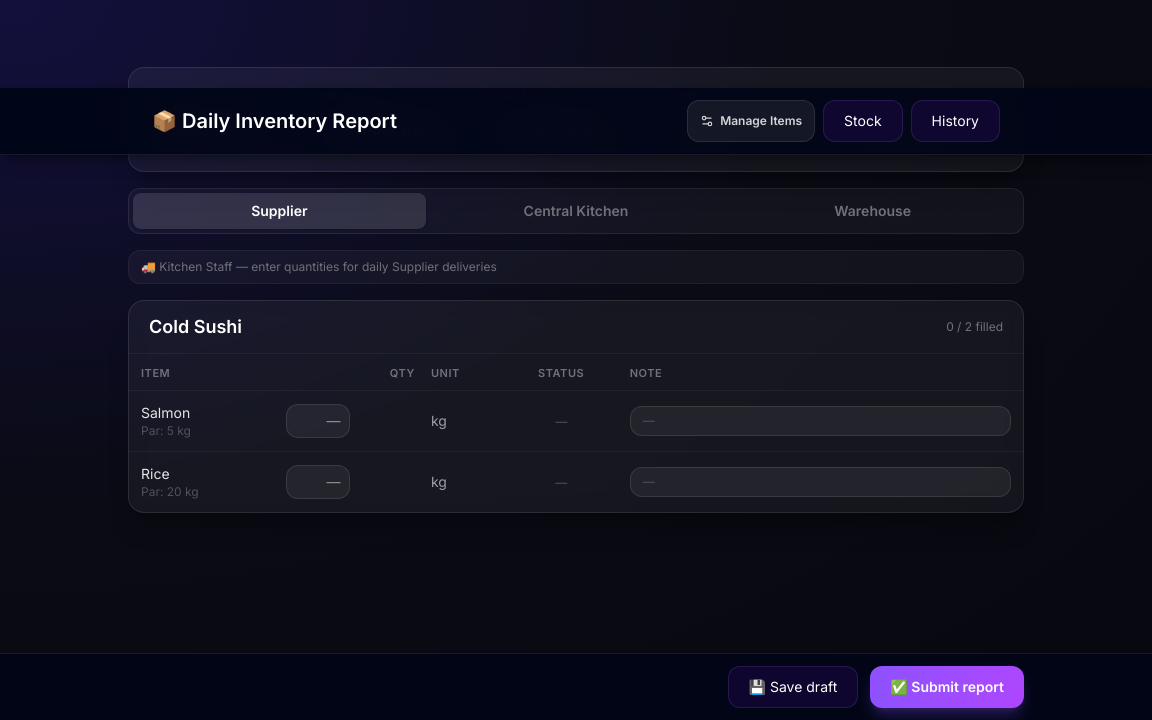
Test: AdminDailyInventoryTab — page structure › renders KITCHEN and CK sections after items load
Expected: the heading "Cold Sushi" is shown, [149,313,242,341]
Click the button "Central Kitchen" at (576, 211), box [430,193,722,229]
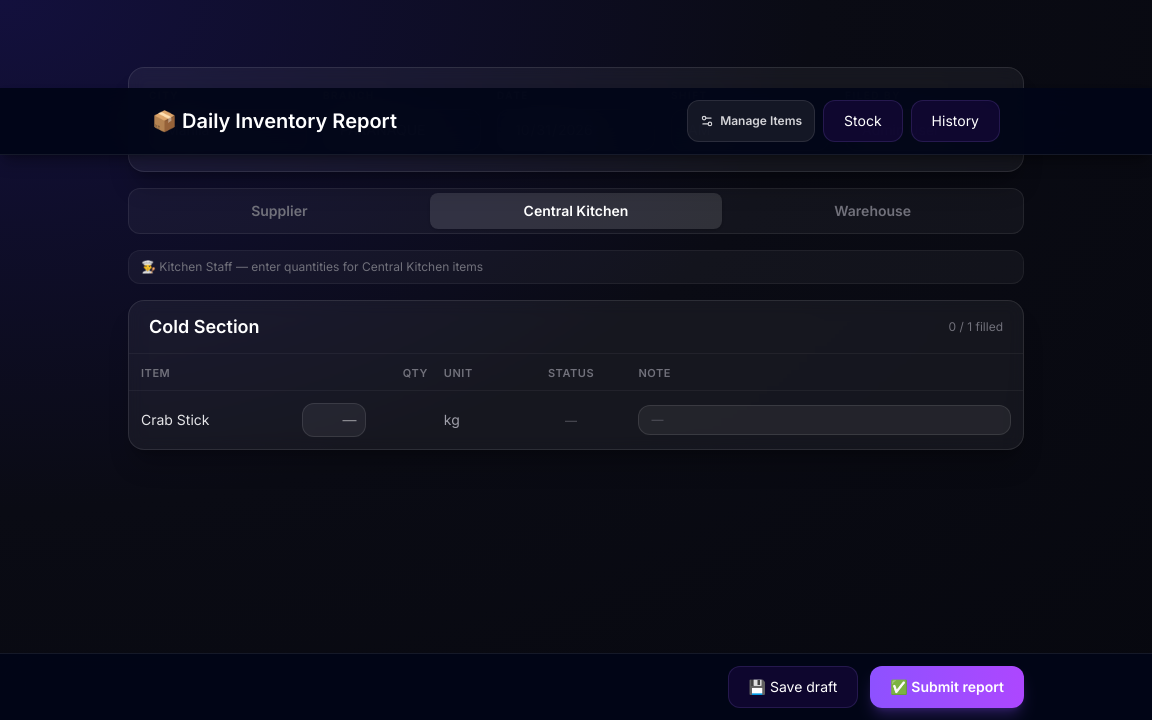
Expected: the heading "Cold Section" is shown, [149,313,260,341]
